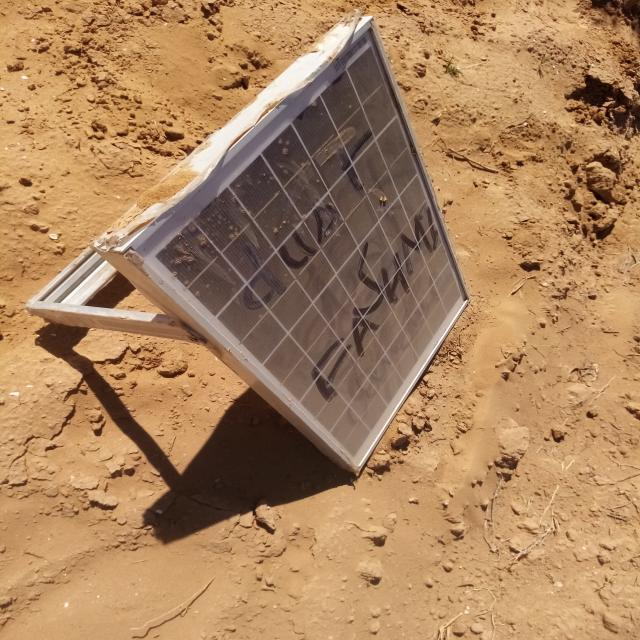faulty: (129, 23, 470, 469)
